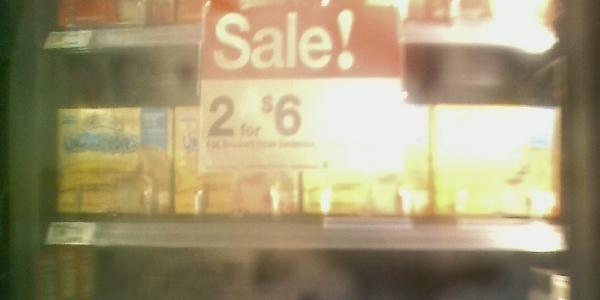icecream: (301, 103, 433, 217), (434, 104, 563, 220), (173, 105, 301, 216), (51, 105, 174, 217)
